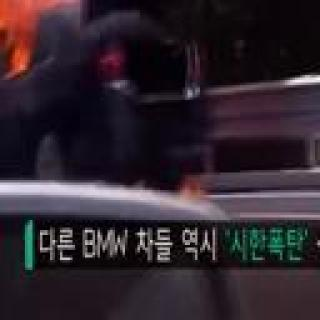fire: (0, 0, 80, 80)
